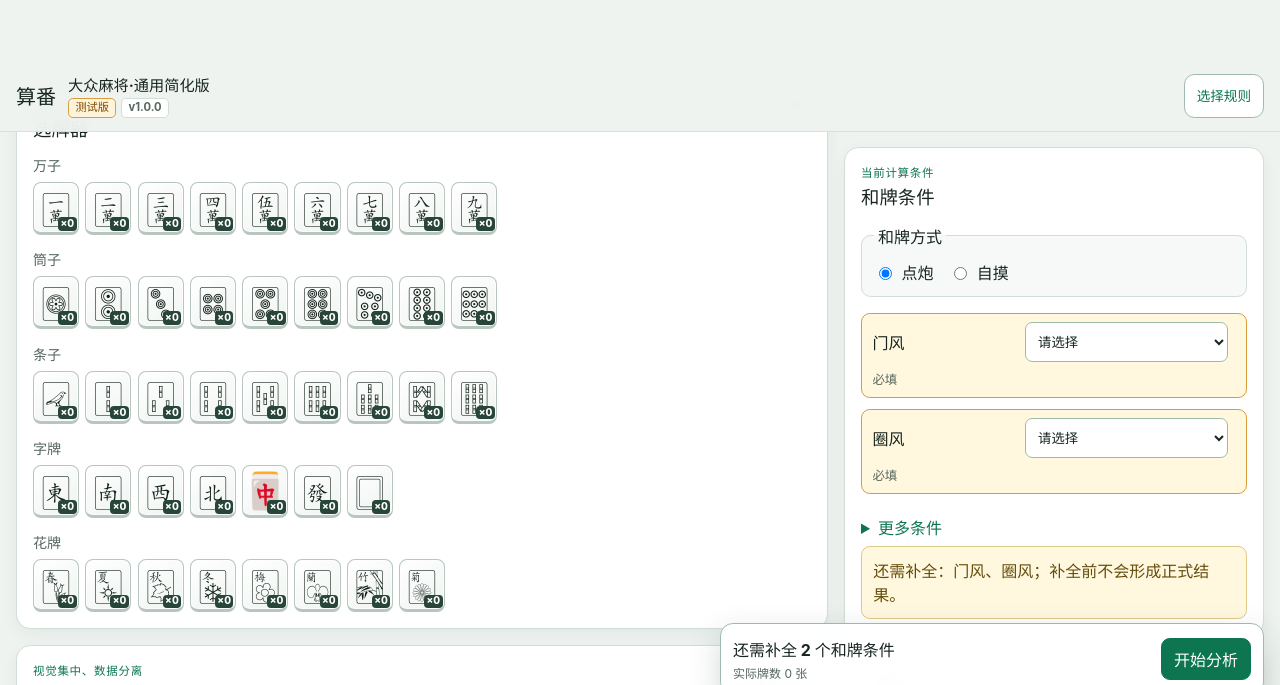
Test: CalculatorPage Batch 11 interaction › uses one store for palette counts and the entered hand
Click the button named "一万，已使用 0 张": [56, 208] box [33,182,79,235]
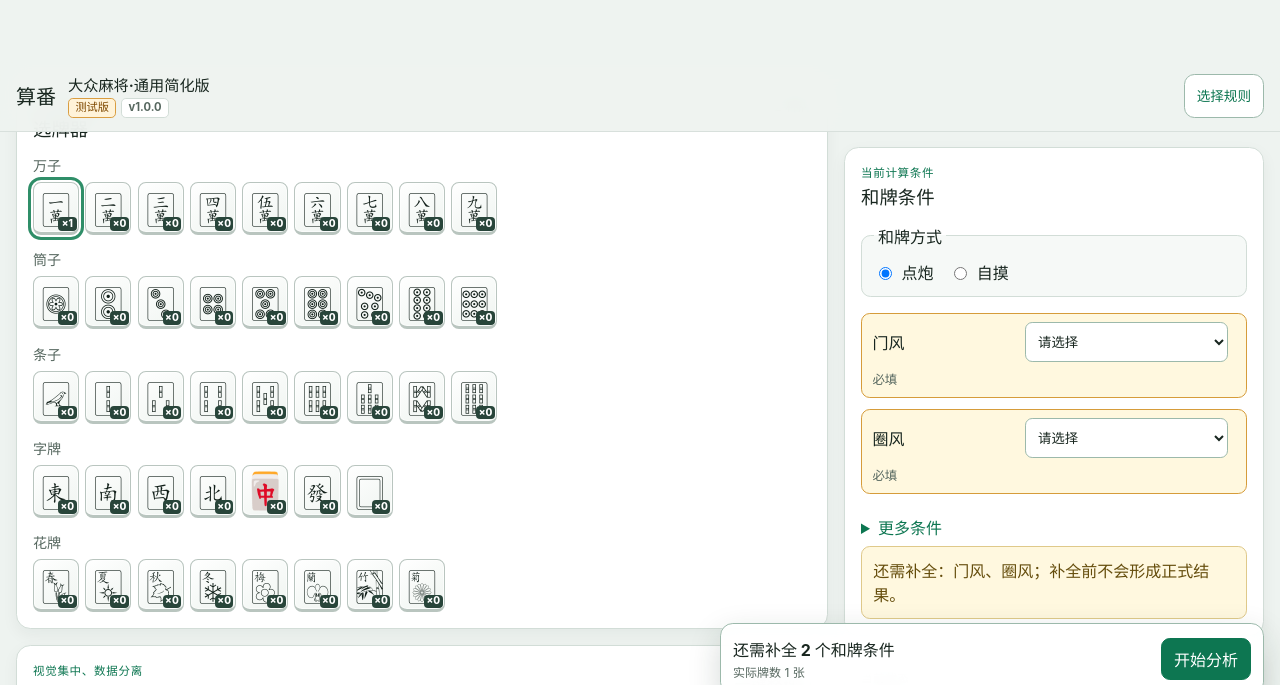
Click the button named "一万，已使用 1 张": [56, 208] box [33,182,79,235]
(page scrolled)
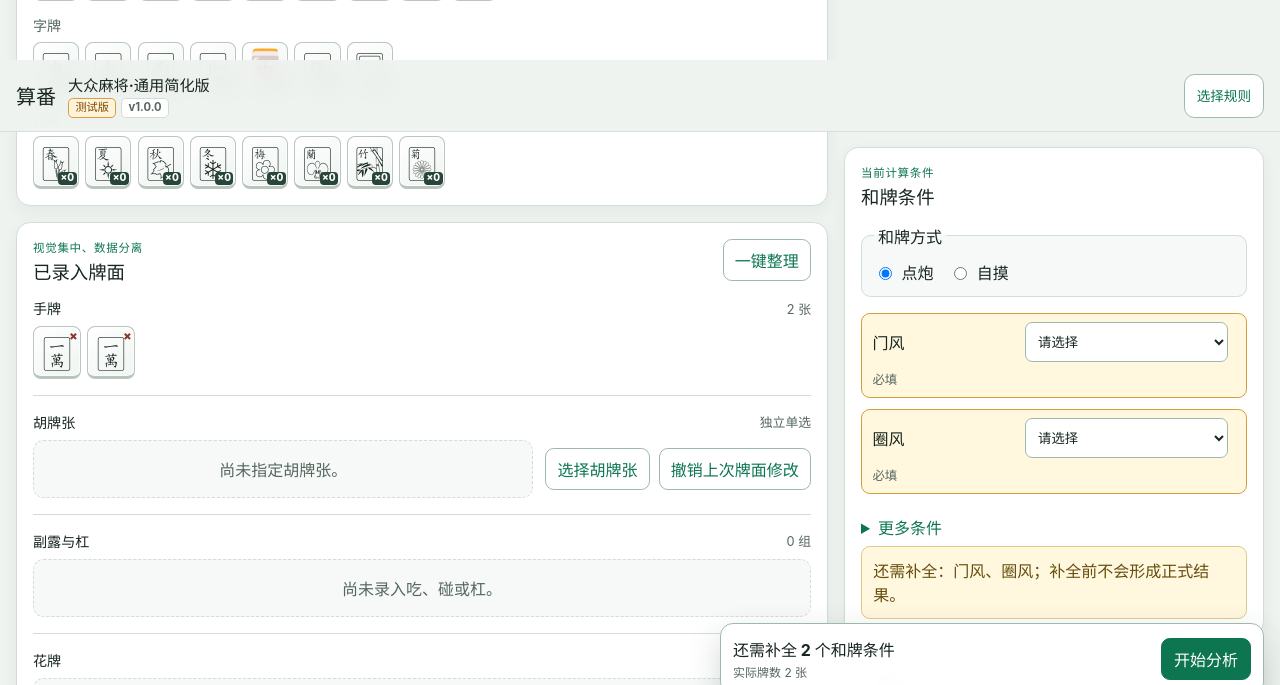
Now the number of buttons named "撤回一万" is 2
Click the 1st button named "撤回一万": [57, 352] box [33,326,81,379]
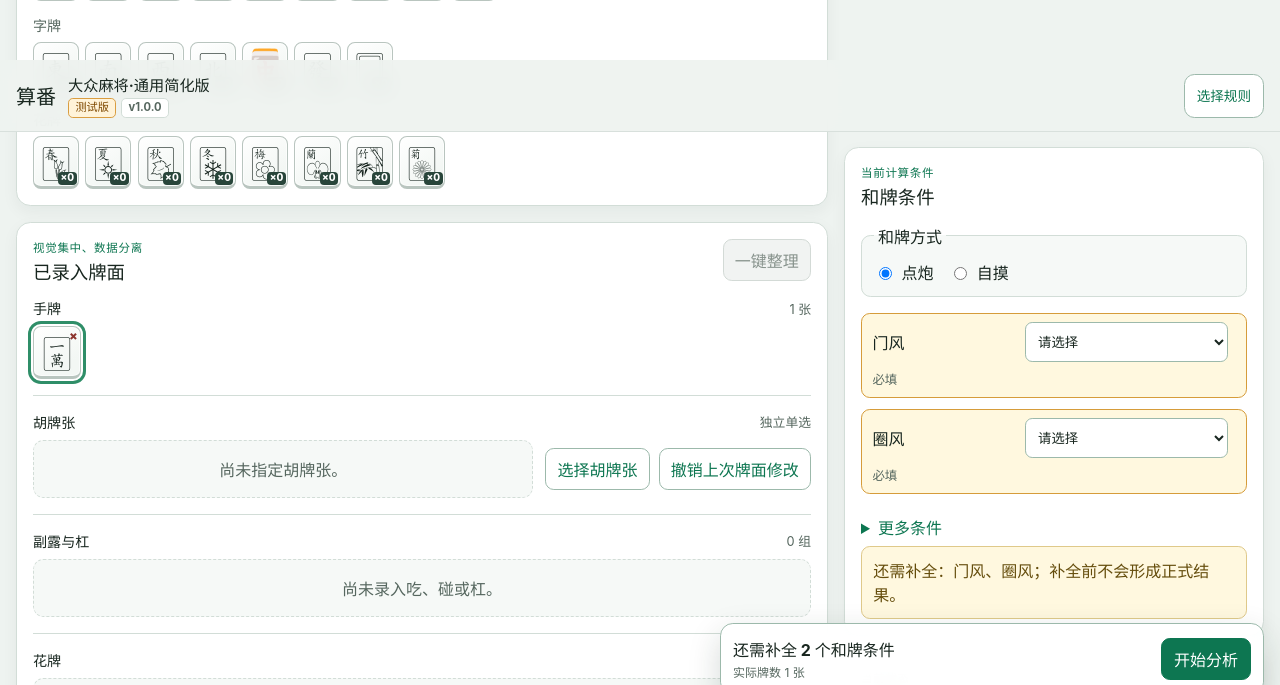
Now the number of buttons named "撤回一万" is 1, box [33,326,81,379]
